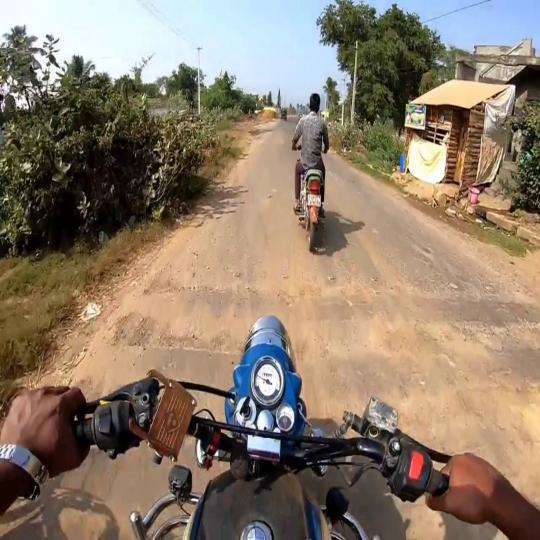Speed Bump: (289, 290, 539, 344), (300, 342, 540, 392), (89, 344, 235, 386), (410, 405, 540, 452), (118, 281, 251, 326), (90, 450, 169, 486)
